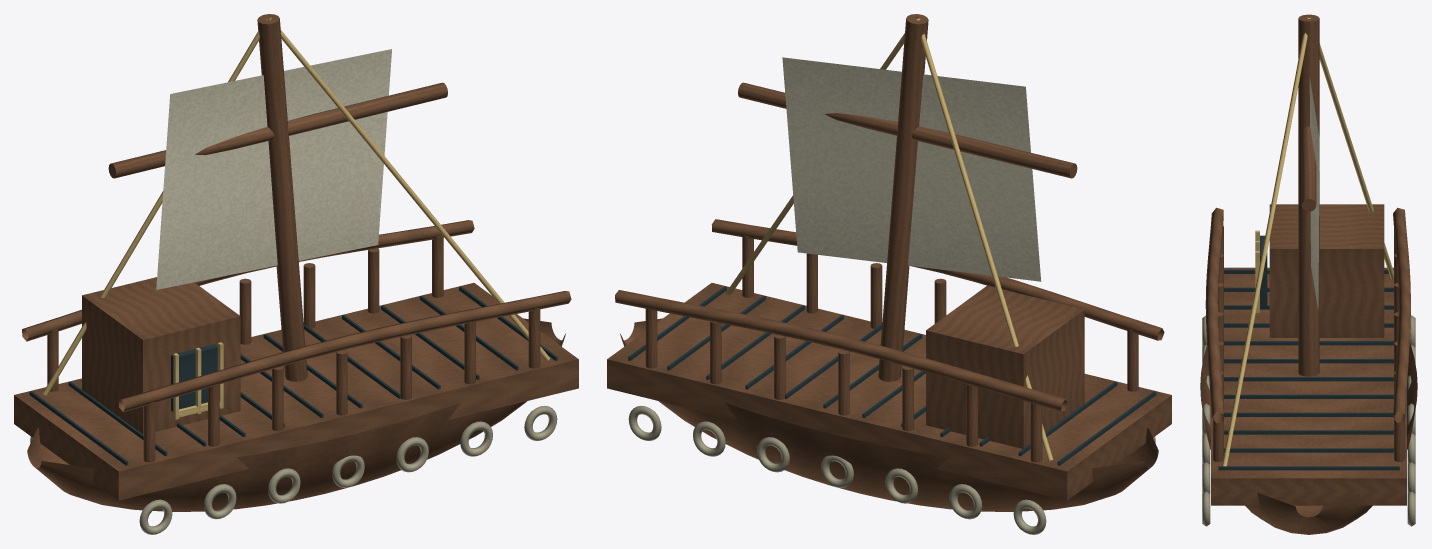
The model's file is sunken_ship.glb.
3 renders of one model, left to right at view 1: azimuth 30°, elevation 25°; view 2: azimuth 150°, elevation 25°; view 3: azimuth 270°, elevation 25°, orthographic. The views are drawn at different scales.
Parts seen in each view (by area): view 1: static_ornament; view 2: static_ornament; view 3: static_ornament.
Part boxes in pixels (<box>): static_ornament: <box>14,14,578,534</box>; static_ornament: <box>607,14,1171,534</box>; static_ornament: <box>1200,14,1417,534</box>.
Size of the model in its own units: 1.88 by 1.63 by 0.72.
1 material, 1 textured.
